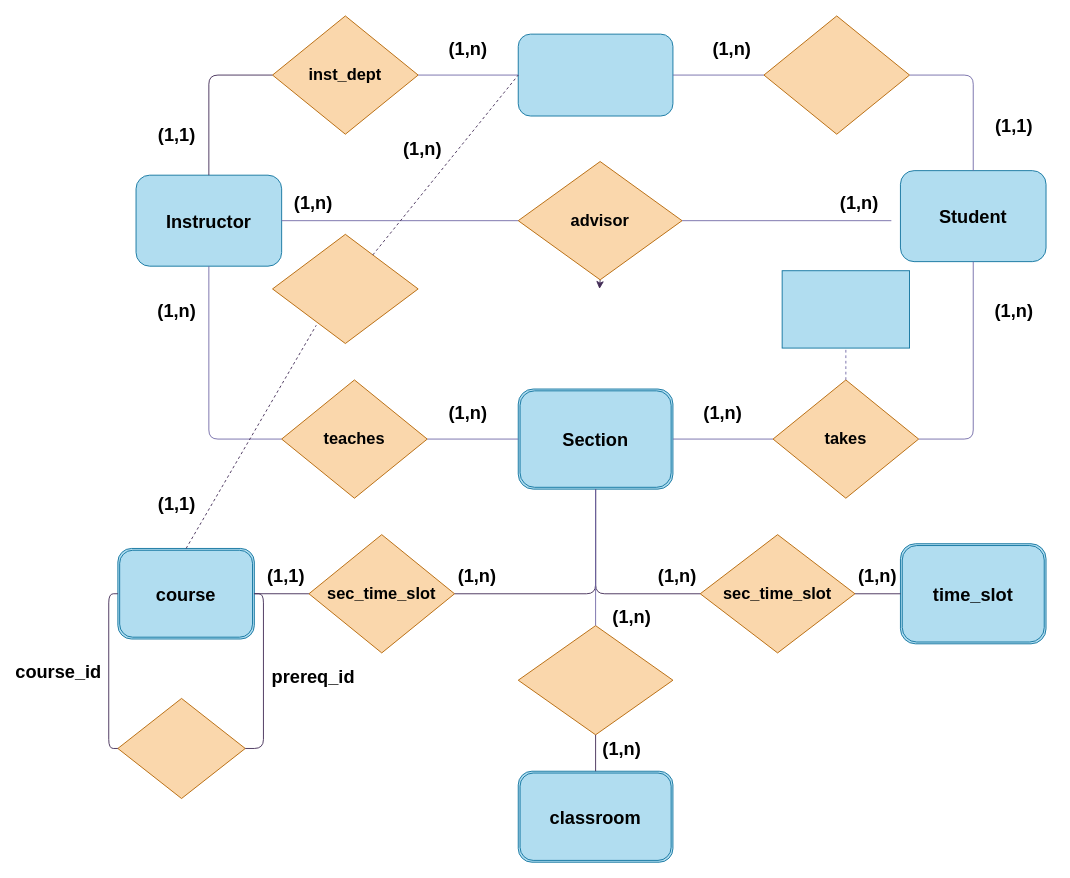
The diagram is 1070 pixels wide and 878 high, and some of its shapes have lost their labels. Each missing label, with the centre of its shape:
"course_dept" goes at [345,288].
"Department" goes at [595,74].
"grage" goes at [845,309].
"prereq" goes at [181,748].
"sec_class" goes at [595,680].
"stud_dept" goes at [836,74].
